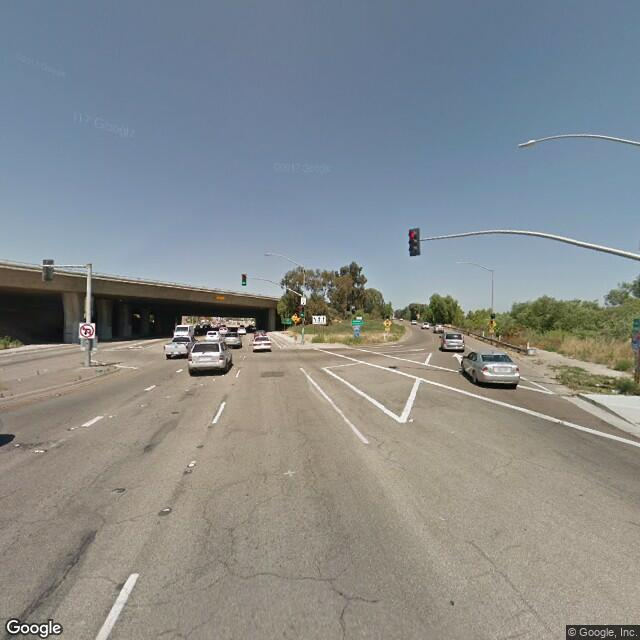litter: (611, 389, 619, 394), (595, 380, 599, 387)
